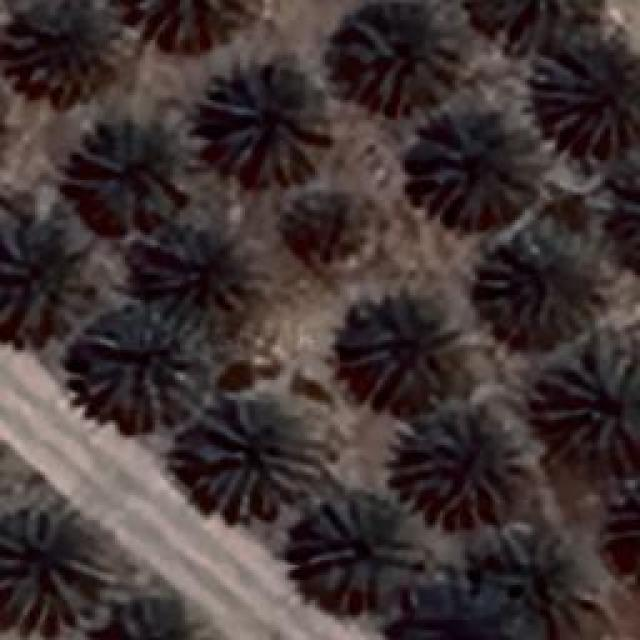PalmTree: (117, 42, 620, 535), (40, 116, 152, 619), (390, 400, 535, 525), (415, 100, 550, 228), (180, 395, 322, 515), (78, 302, 210, 430), (292, 490, 426, 610), (205, 60, 330, 185), (530, 22, 635, 150), (480, 222, 605, 328), (340, 290, 468, 388), (78, 120, 200, 222), (344, 2, 458, 108), (0, 0, 125, 95), (0, 512, 95, 630), (482, 532, 596, 626), (550, 338, 638, 452), (0, 220, 88, 330), (140, 225, 242, 315), (463, 0, 604, 56), (288, 190, 380, 265), (135, 0, 270, 48), (398, 581, 505, 640), (599, 152, 640, 268)
